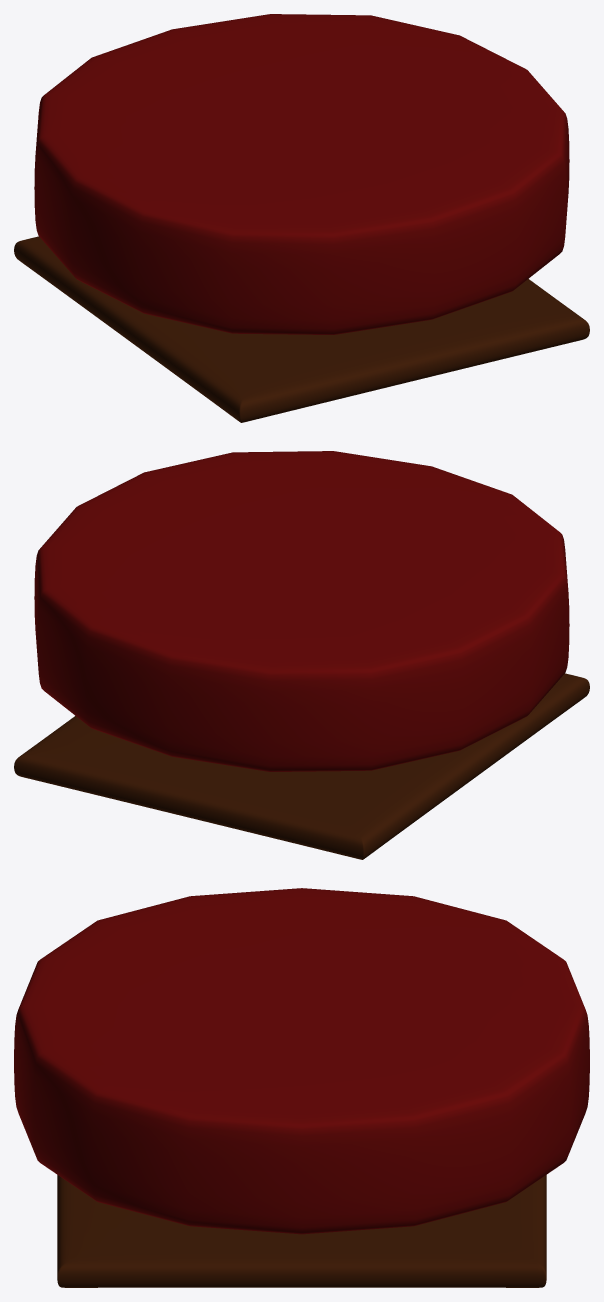
File: enviromentchair.fbx
The picture shows the model from 3 angles, top to bottom: view 1: azimuth 30°, elevation 25°; view 2: azimuth 150°, elevation 25°; view 3: azimuth 270°, elevation 25°; orthographic projection. The views are drawn at different scales.
Parts seen in each view (by area): view 1: Cube.013; view 2: Cube.013; view 3: Cube.013.
Part boxes in pixels (x1,y1,x2,y2): Cube.013: [14, 14, 589, 422]; Cube.013: [14, 451, 589, 859]; Cube.013: [14, 888, 589, 1287].
Size of the model in its own units: 138 by 52.2 by 138.
